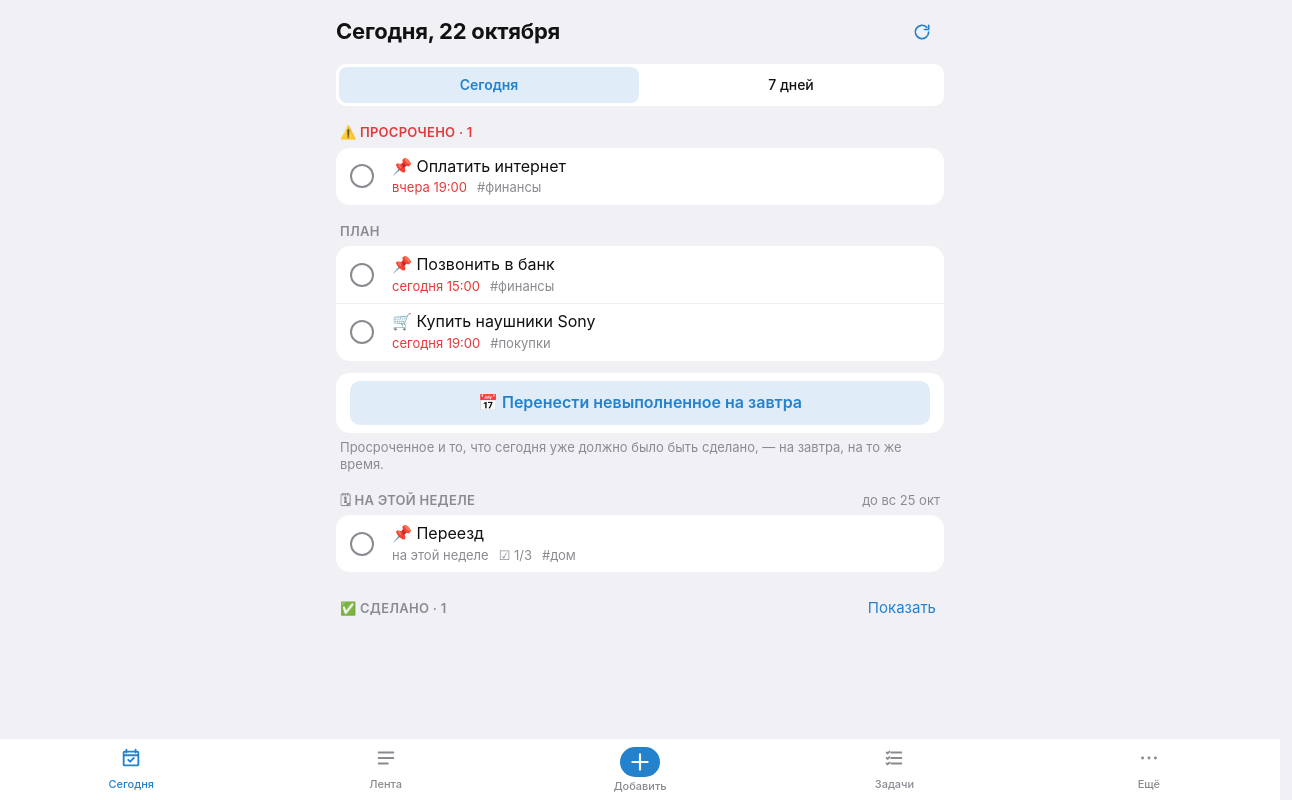
with the mock API › asks a question and shows the found rows, or why it could not
The image size is (1292, 800).
Expected: the text "Позвонить в банк" is shown, [416,254,555,274]
Click the button "Ещё".
click(1149, 772)  # box [1022,743,1276,799]
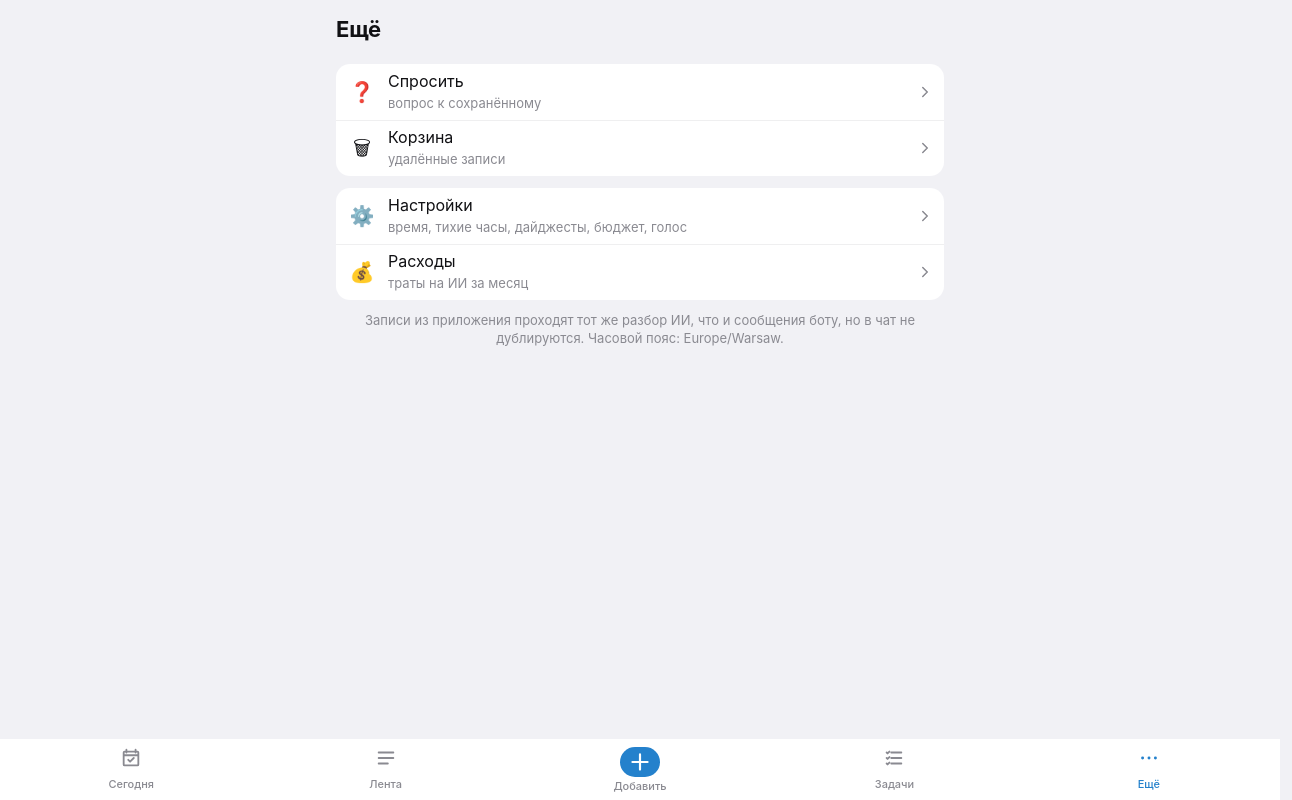
Click the text "Спросить".
click(426, 81)  # box [388,71,464,91]
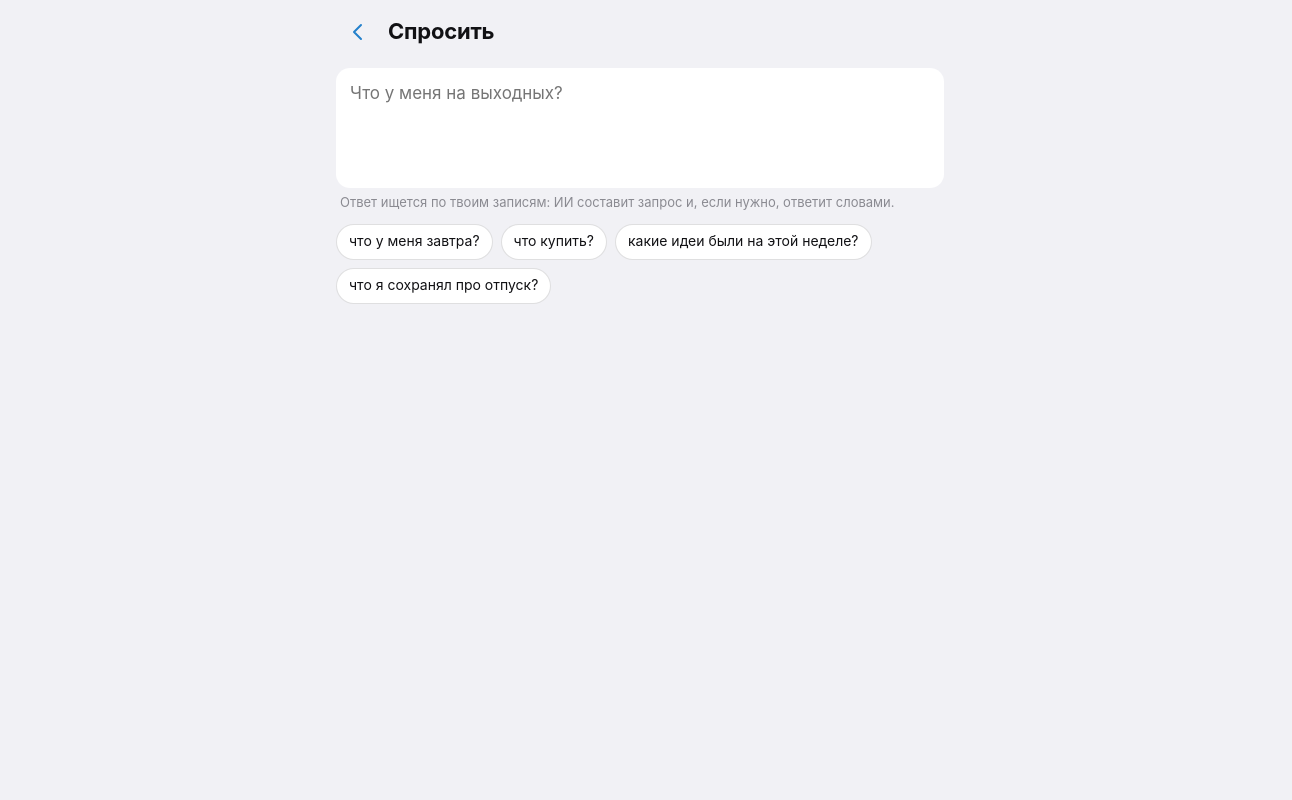
Type "?что с наушниками" into the text box named "Вопрос".
click(640, 128); type("?что с наушниками")  # box [336,68,944,188]
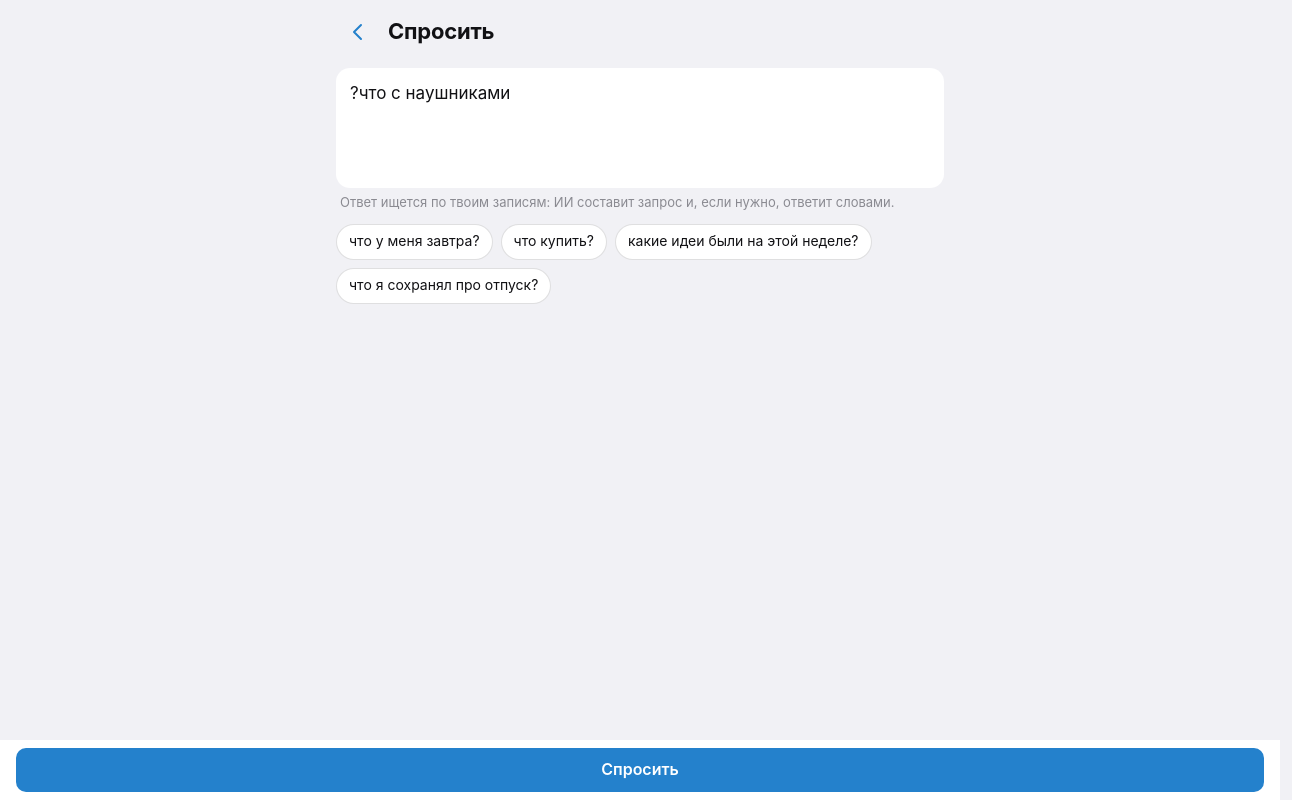
Click the button "Спросить".
click(640, 770)  # box [16,748,1264,792]
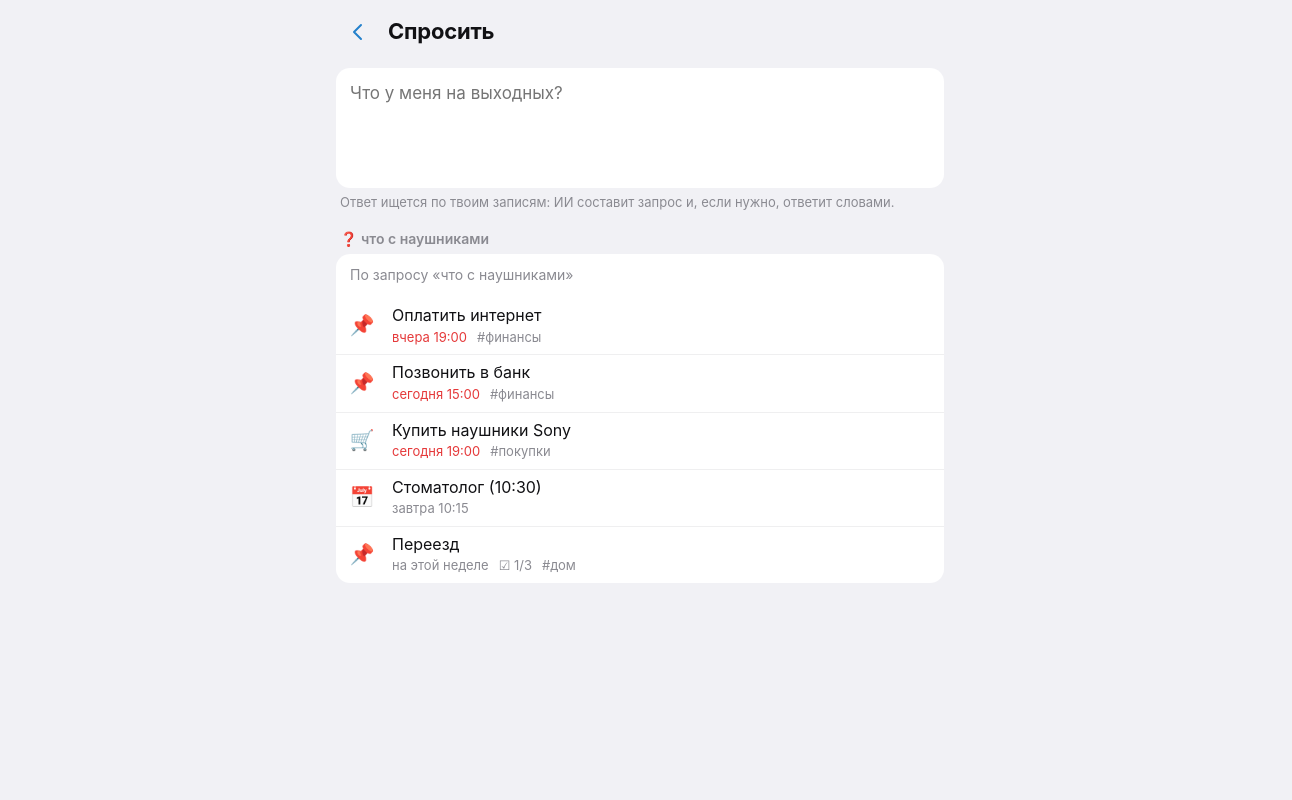
Result: the text "По запросу «что с наушниками»" is shown at [350,266,574,283]
Result: the text "Купить наушники Sony" is shown at [392,420,571,441]
Type "сколько осталось бюджета" into the text box named "Вопрос".
click(640, 128); type("сколько осталось бюджета")  # box [336,68,944,188]
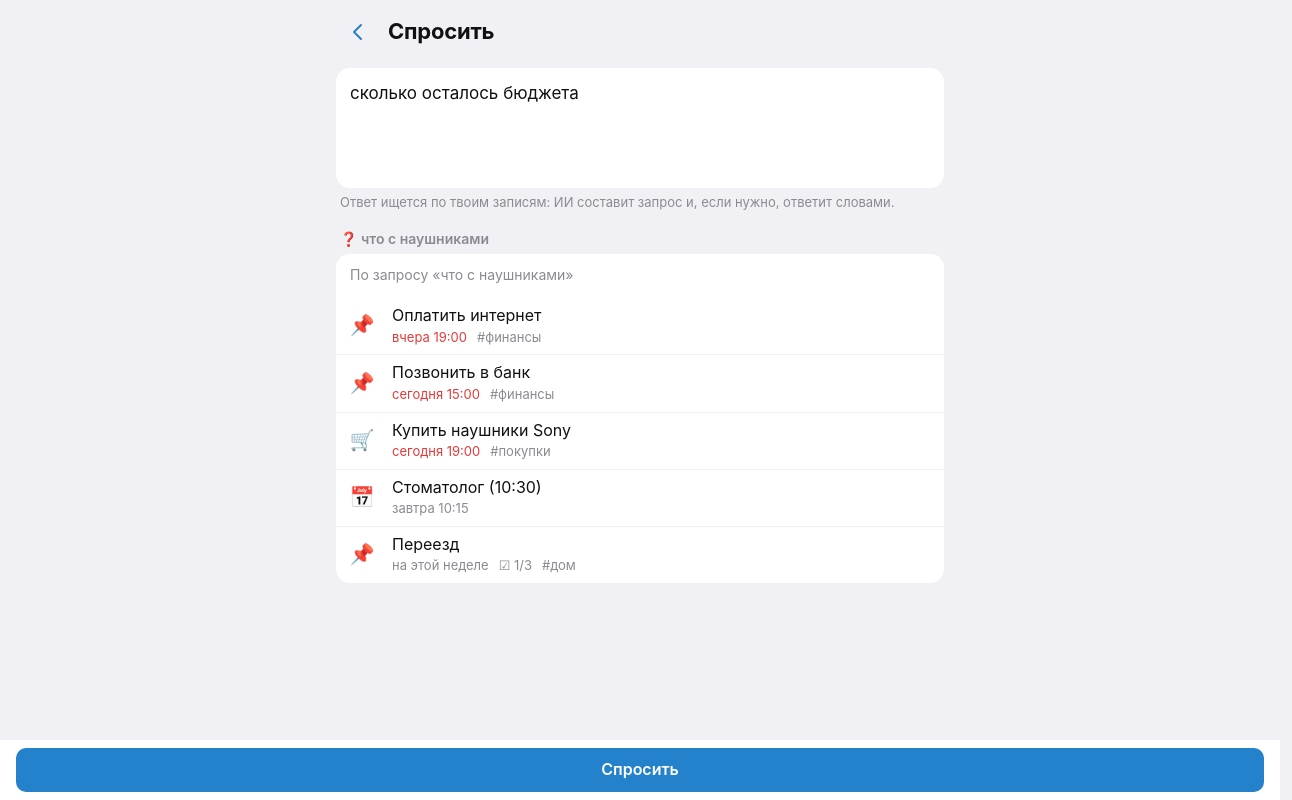
Click the button "Спросить".
click(640, 770)  # box [16,748,1264,792]
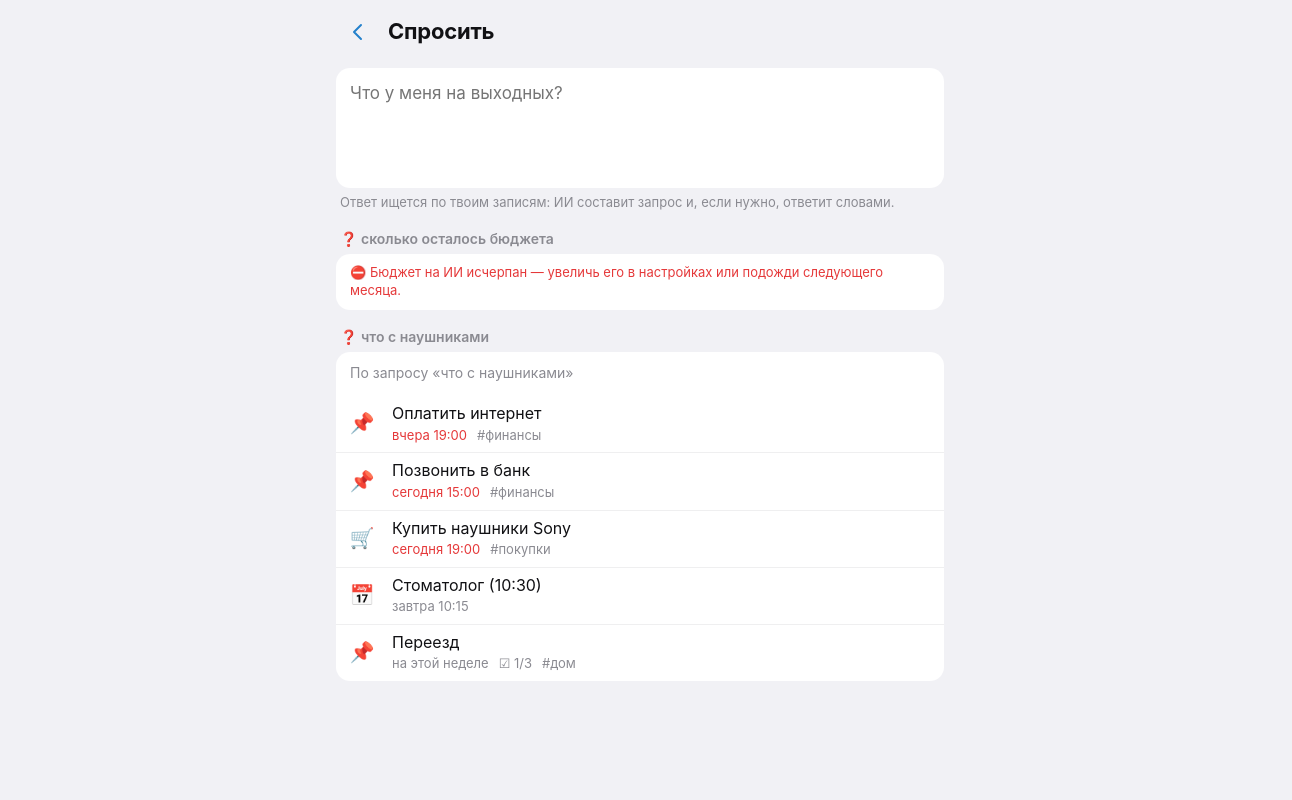
Result: the text "Бюджет на ИИ исчерпан" is shown at [350,264,883,298]
